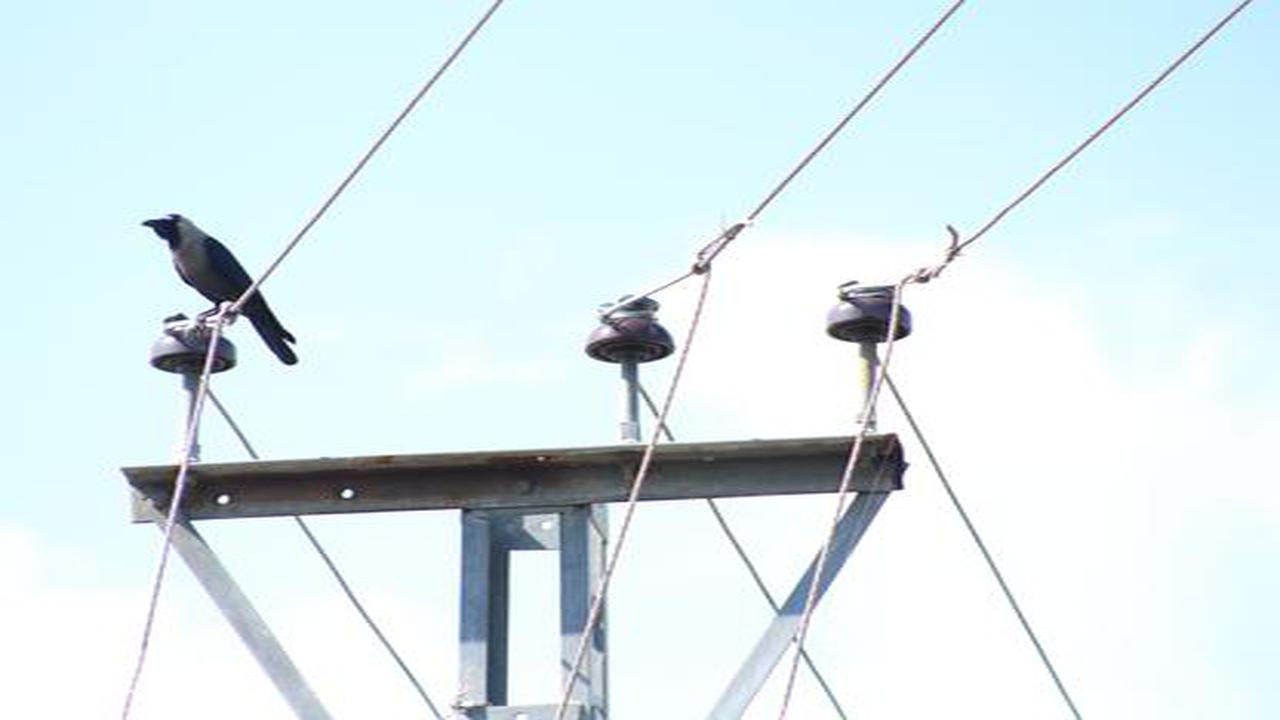insulator_pin: (581, 291, 680, 369), (821, 275, 917, 347), (146, 308, 242, 377)
